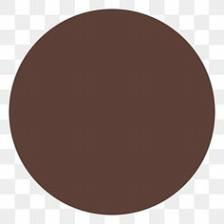brown: (9, 9, 215, 215)
